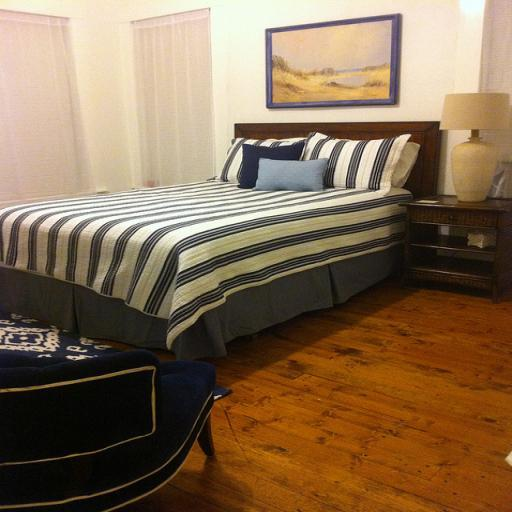bed: (5, 94, 512, 398)
